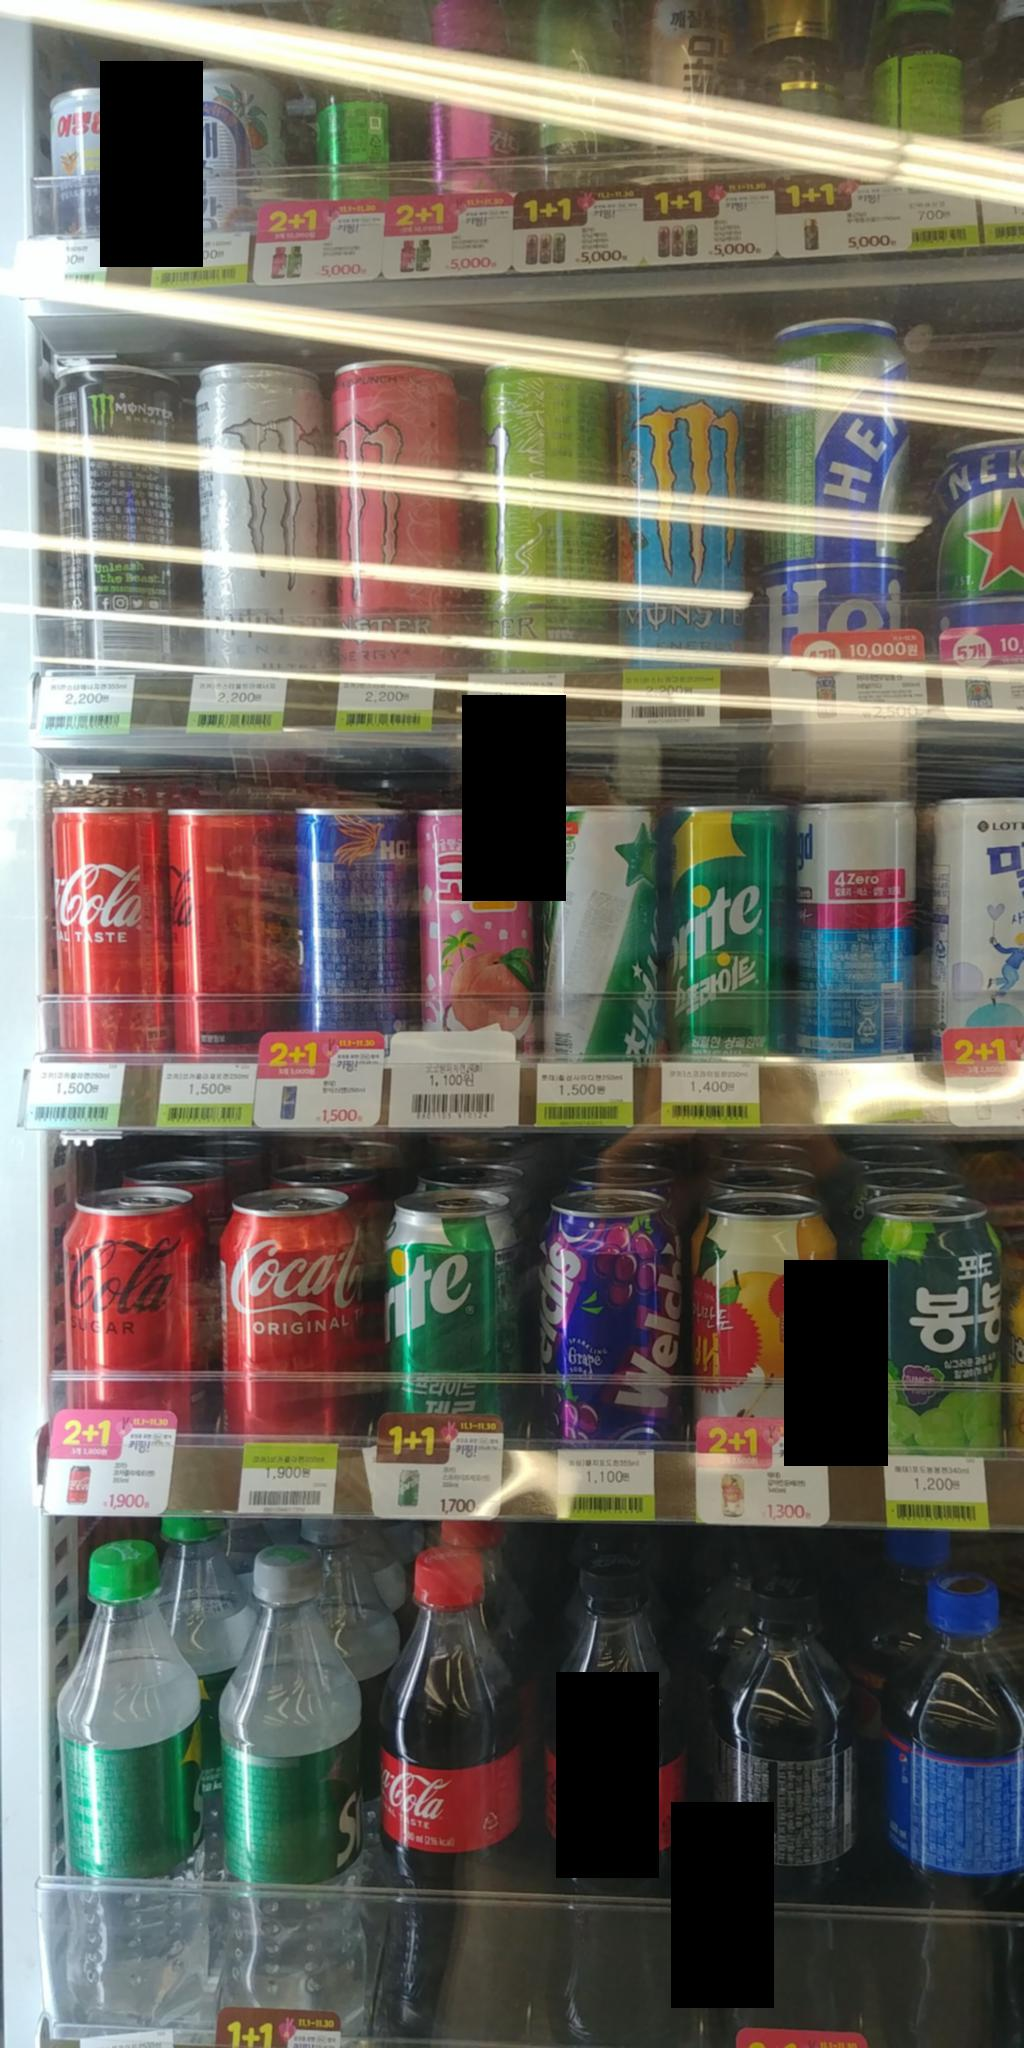cocacola: (227, 1172, 381, 1442)
cocacola_zero: (163, 802, 307, 1055)
hotsix_org: (294, 788, 432, 1038)
narangdcider: (782, 782, 927, 1050)
welchs_grape: (533, 1182, 691, 1442)
